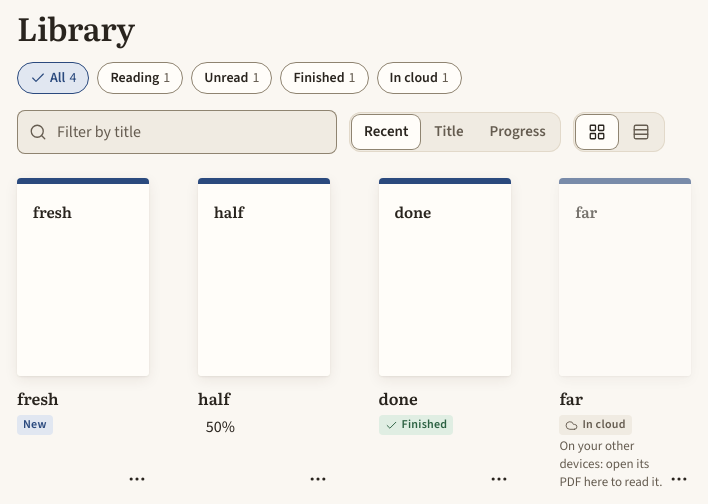
Test: Library › filters by chip with counts, together with the title filter (phase 22)
Expected: the button "All 4" is shown, x1=17 y1=62 x2=89 y2=94
Expected: the button "Reading 1" is shown, x1=97 y1=62 x2=183 y2=94
Click the button "Finished 1" at (324, 78), box x1=280 y1=62 x2=368 y2=94
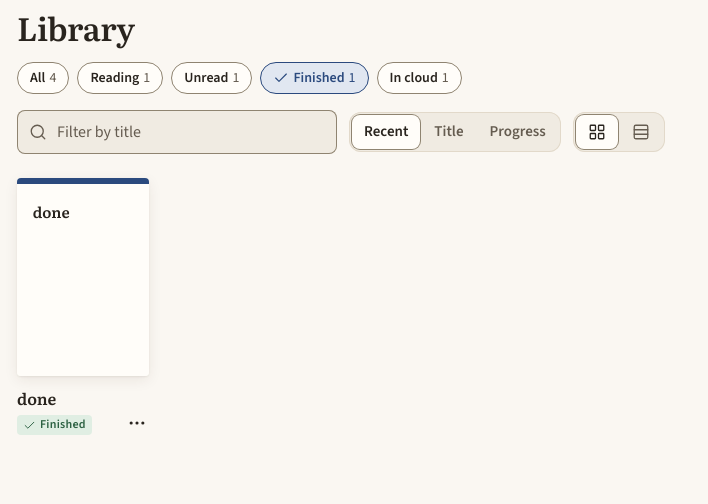
Type "half" into the search field named "Filter books" at (190, 132), box x1=55 y1=110 x2=325 y2=154
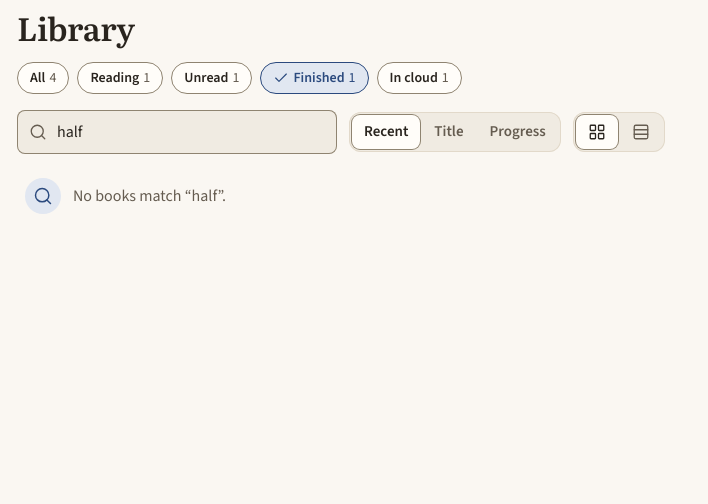
Now no list items are shown
Now the text "No books match “half”." is shown, box x1=73 y1=184 x2=226 y2=208
